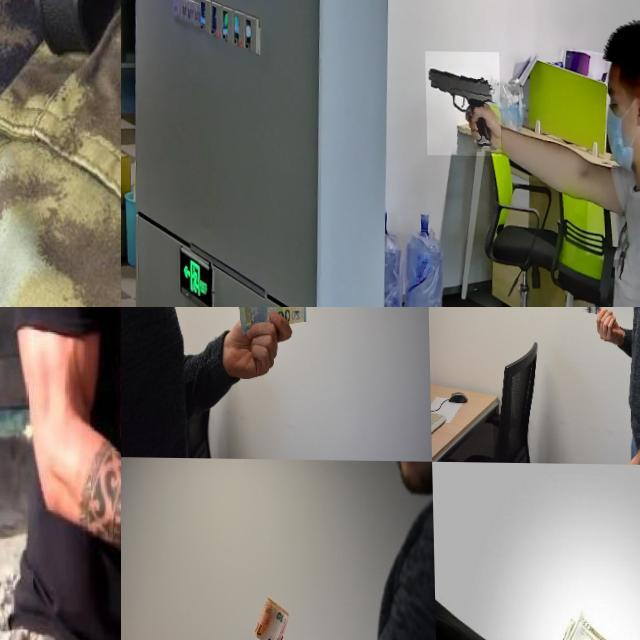gun-knife-thesis - v11 Yolov5 augmented: (424, 50, 499, 155)
